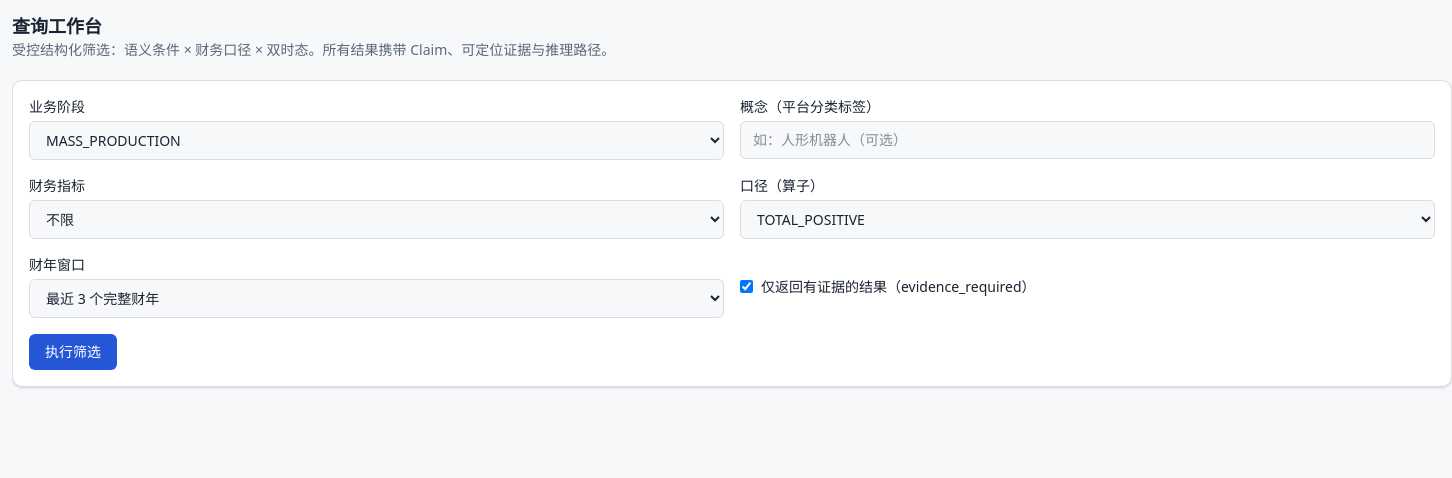
Scenario: 查询工作台（issue #31 关闭条件） › MIN_VALUE 无阈值：字段就地报错，不发请求
Select "MIN_VALUE" in the dropdown labelled "口径（算子）" at (1088, 220), box [740,200,1435,239]
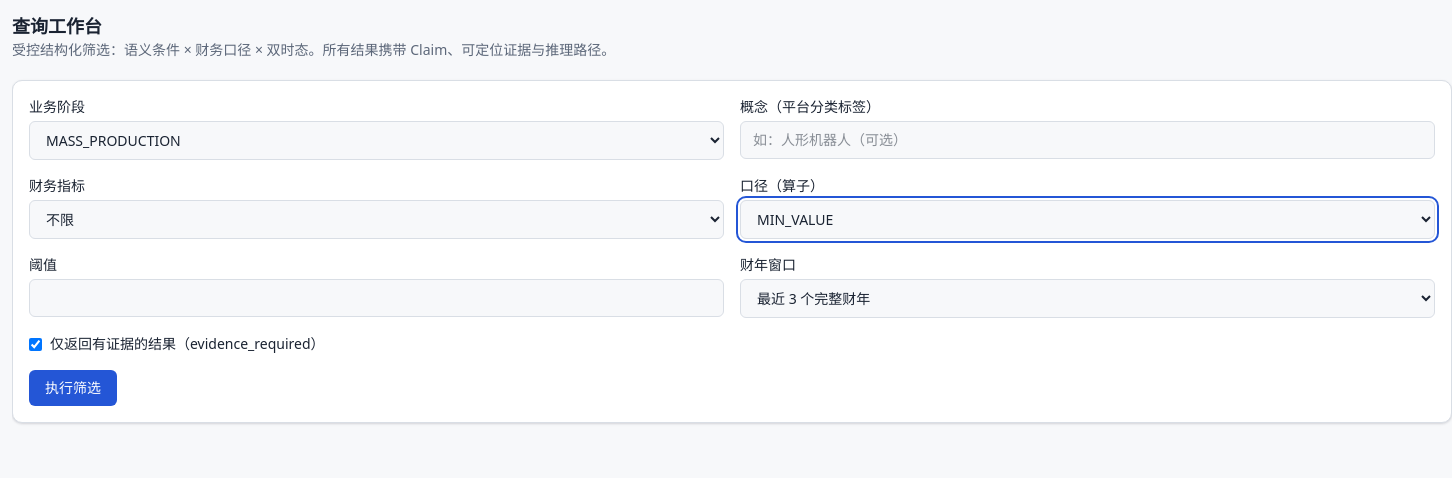
Click the button "执行筛选" at (73, 388), box [29,370,117,406]
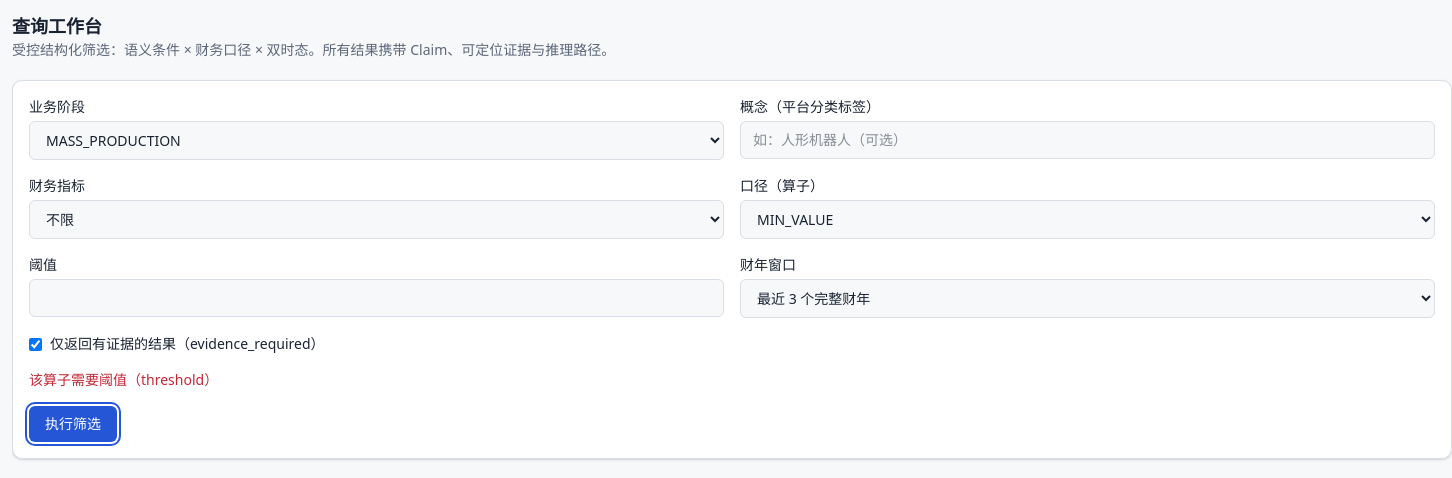
Now the message shows "阈值", box [29,370,218,389]
